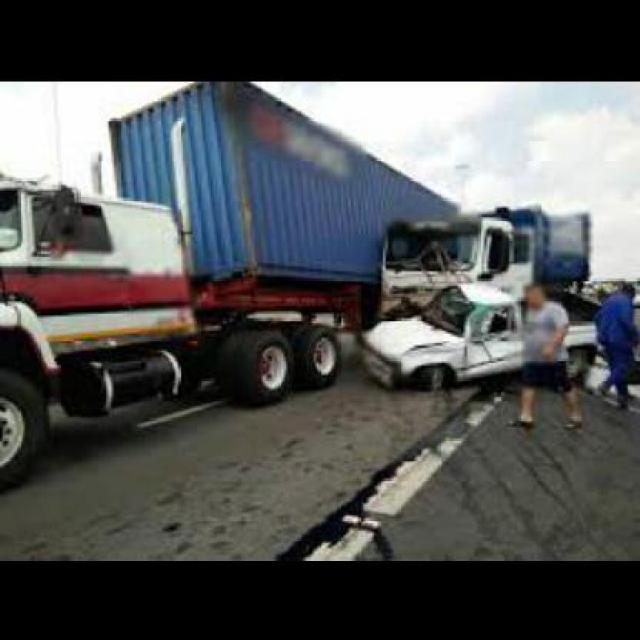accident: (352, 204, 602, 405)
